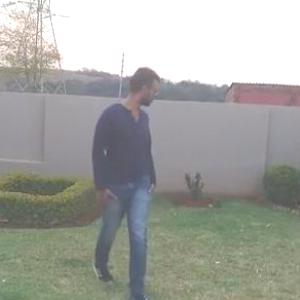follow: (90, 58, 162, 276)
